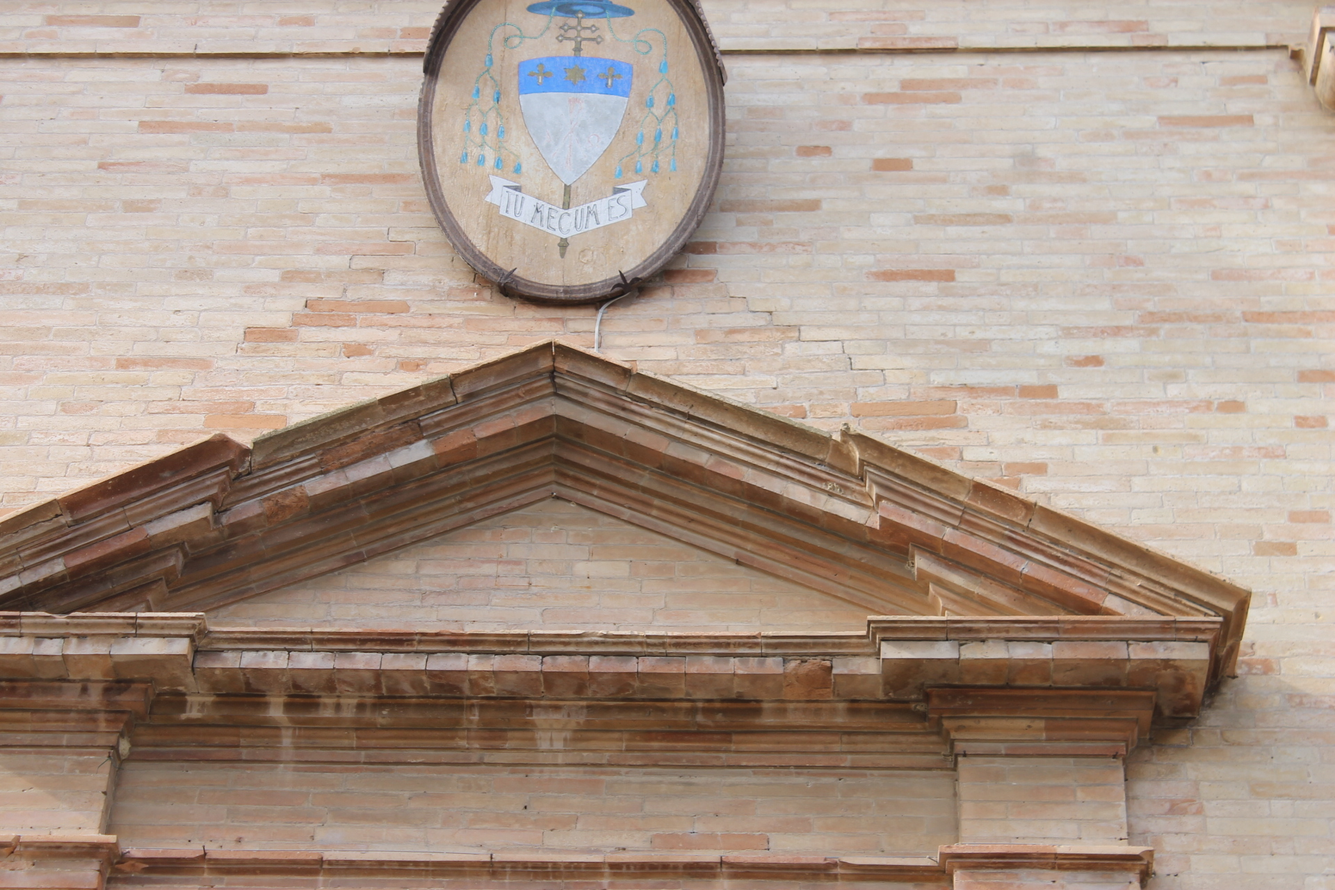Crack: (701, 246, 931, 406)
